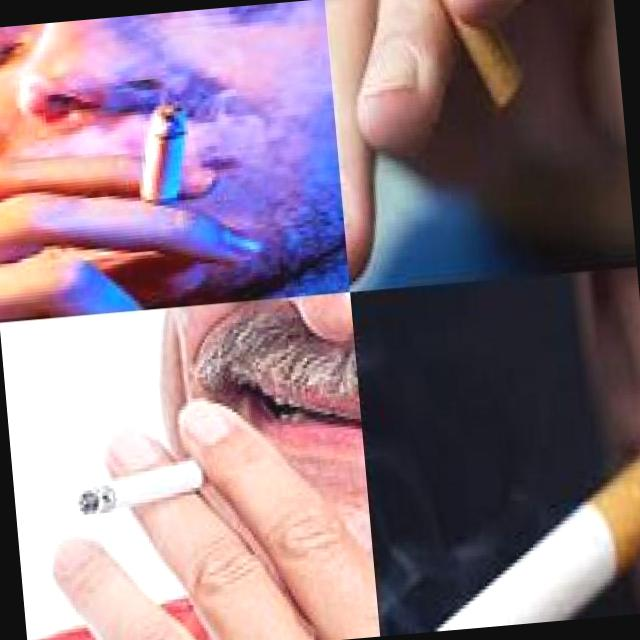smoke: (364, 440, 640, 632), (355, 0, 528, 125), (74, 442, 244, 518), (132, 100, 186, 208)
